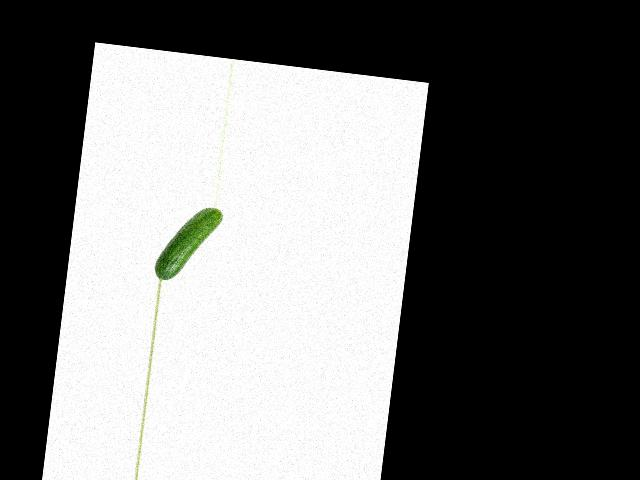cucumber: (152, 201, 223, 286)
